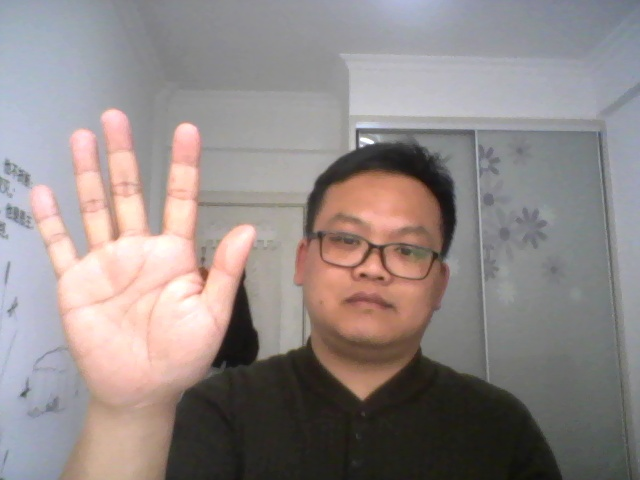Hello: (25, 101, 258, 403)
